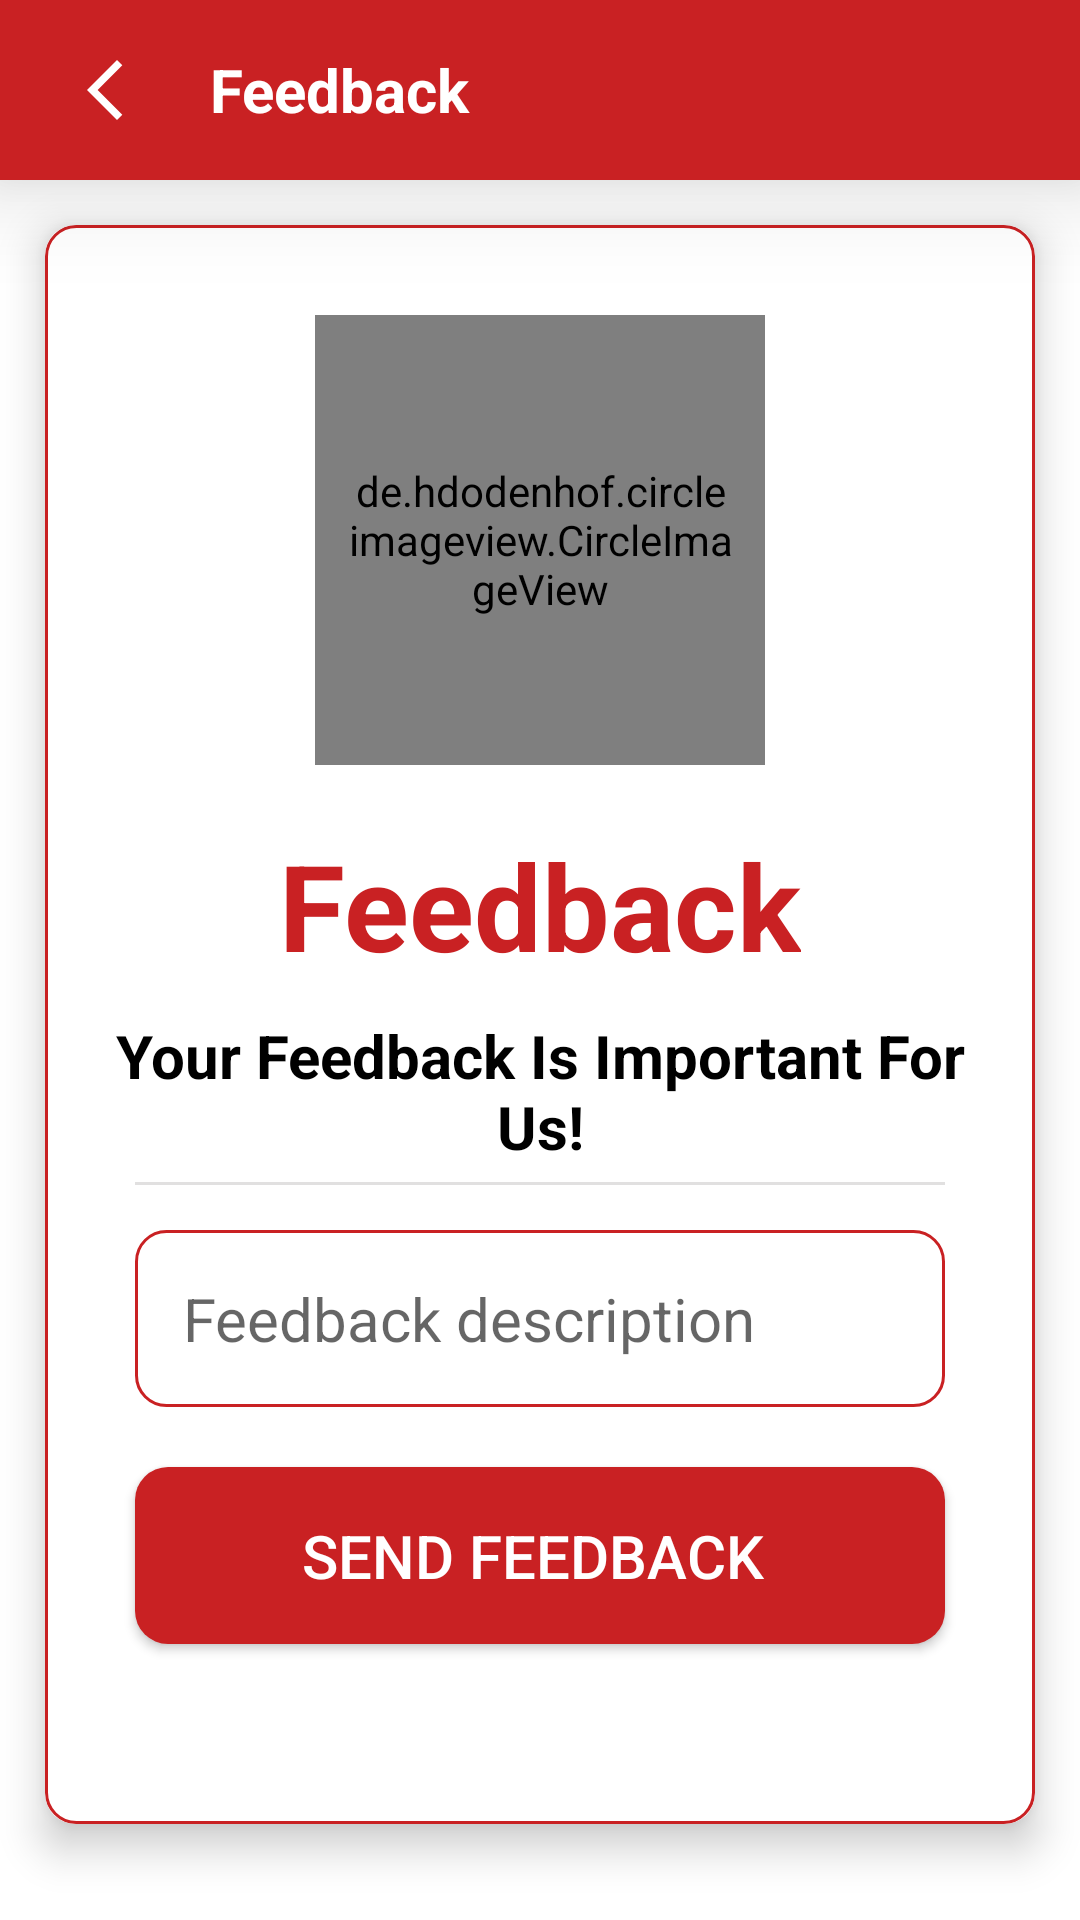

Where to tap for icons on this 1080*1920 app screen, as point (x, y):
arrow back: point (104, 90)
